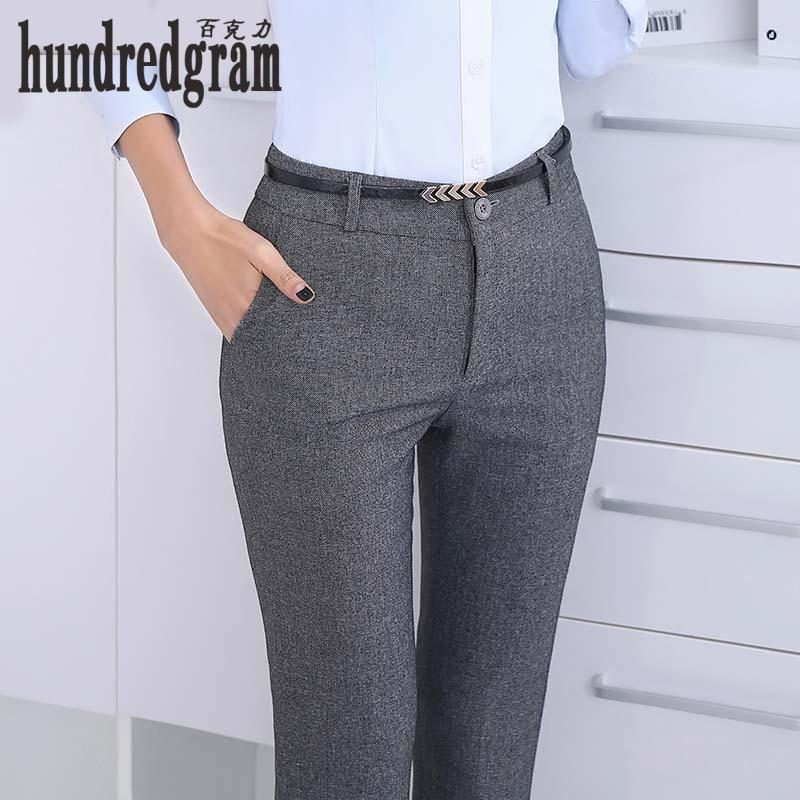F_belt: (239, 154, 594, 215)
S_W_pants: (197, 154, 613, 800)
